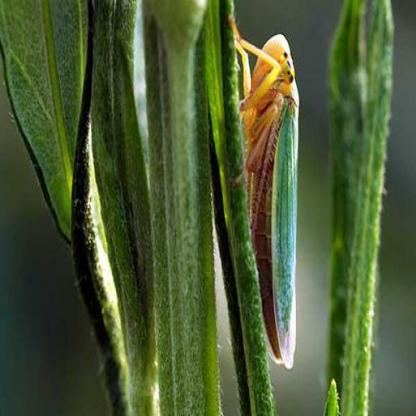Green-Leafhopper: (231, 13, 301, 372)
